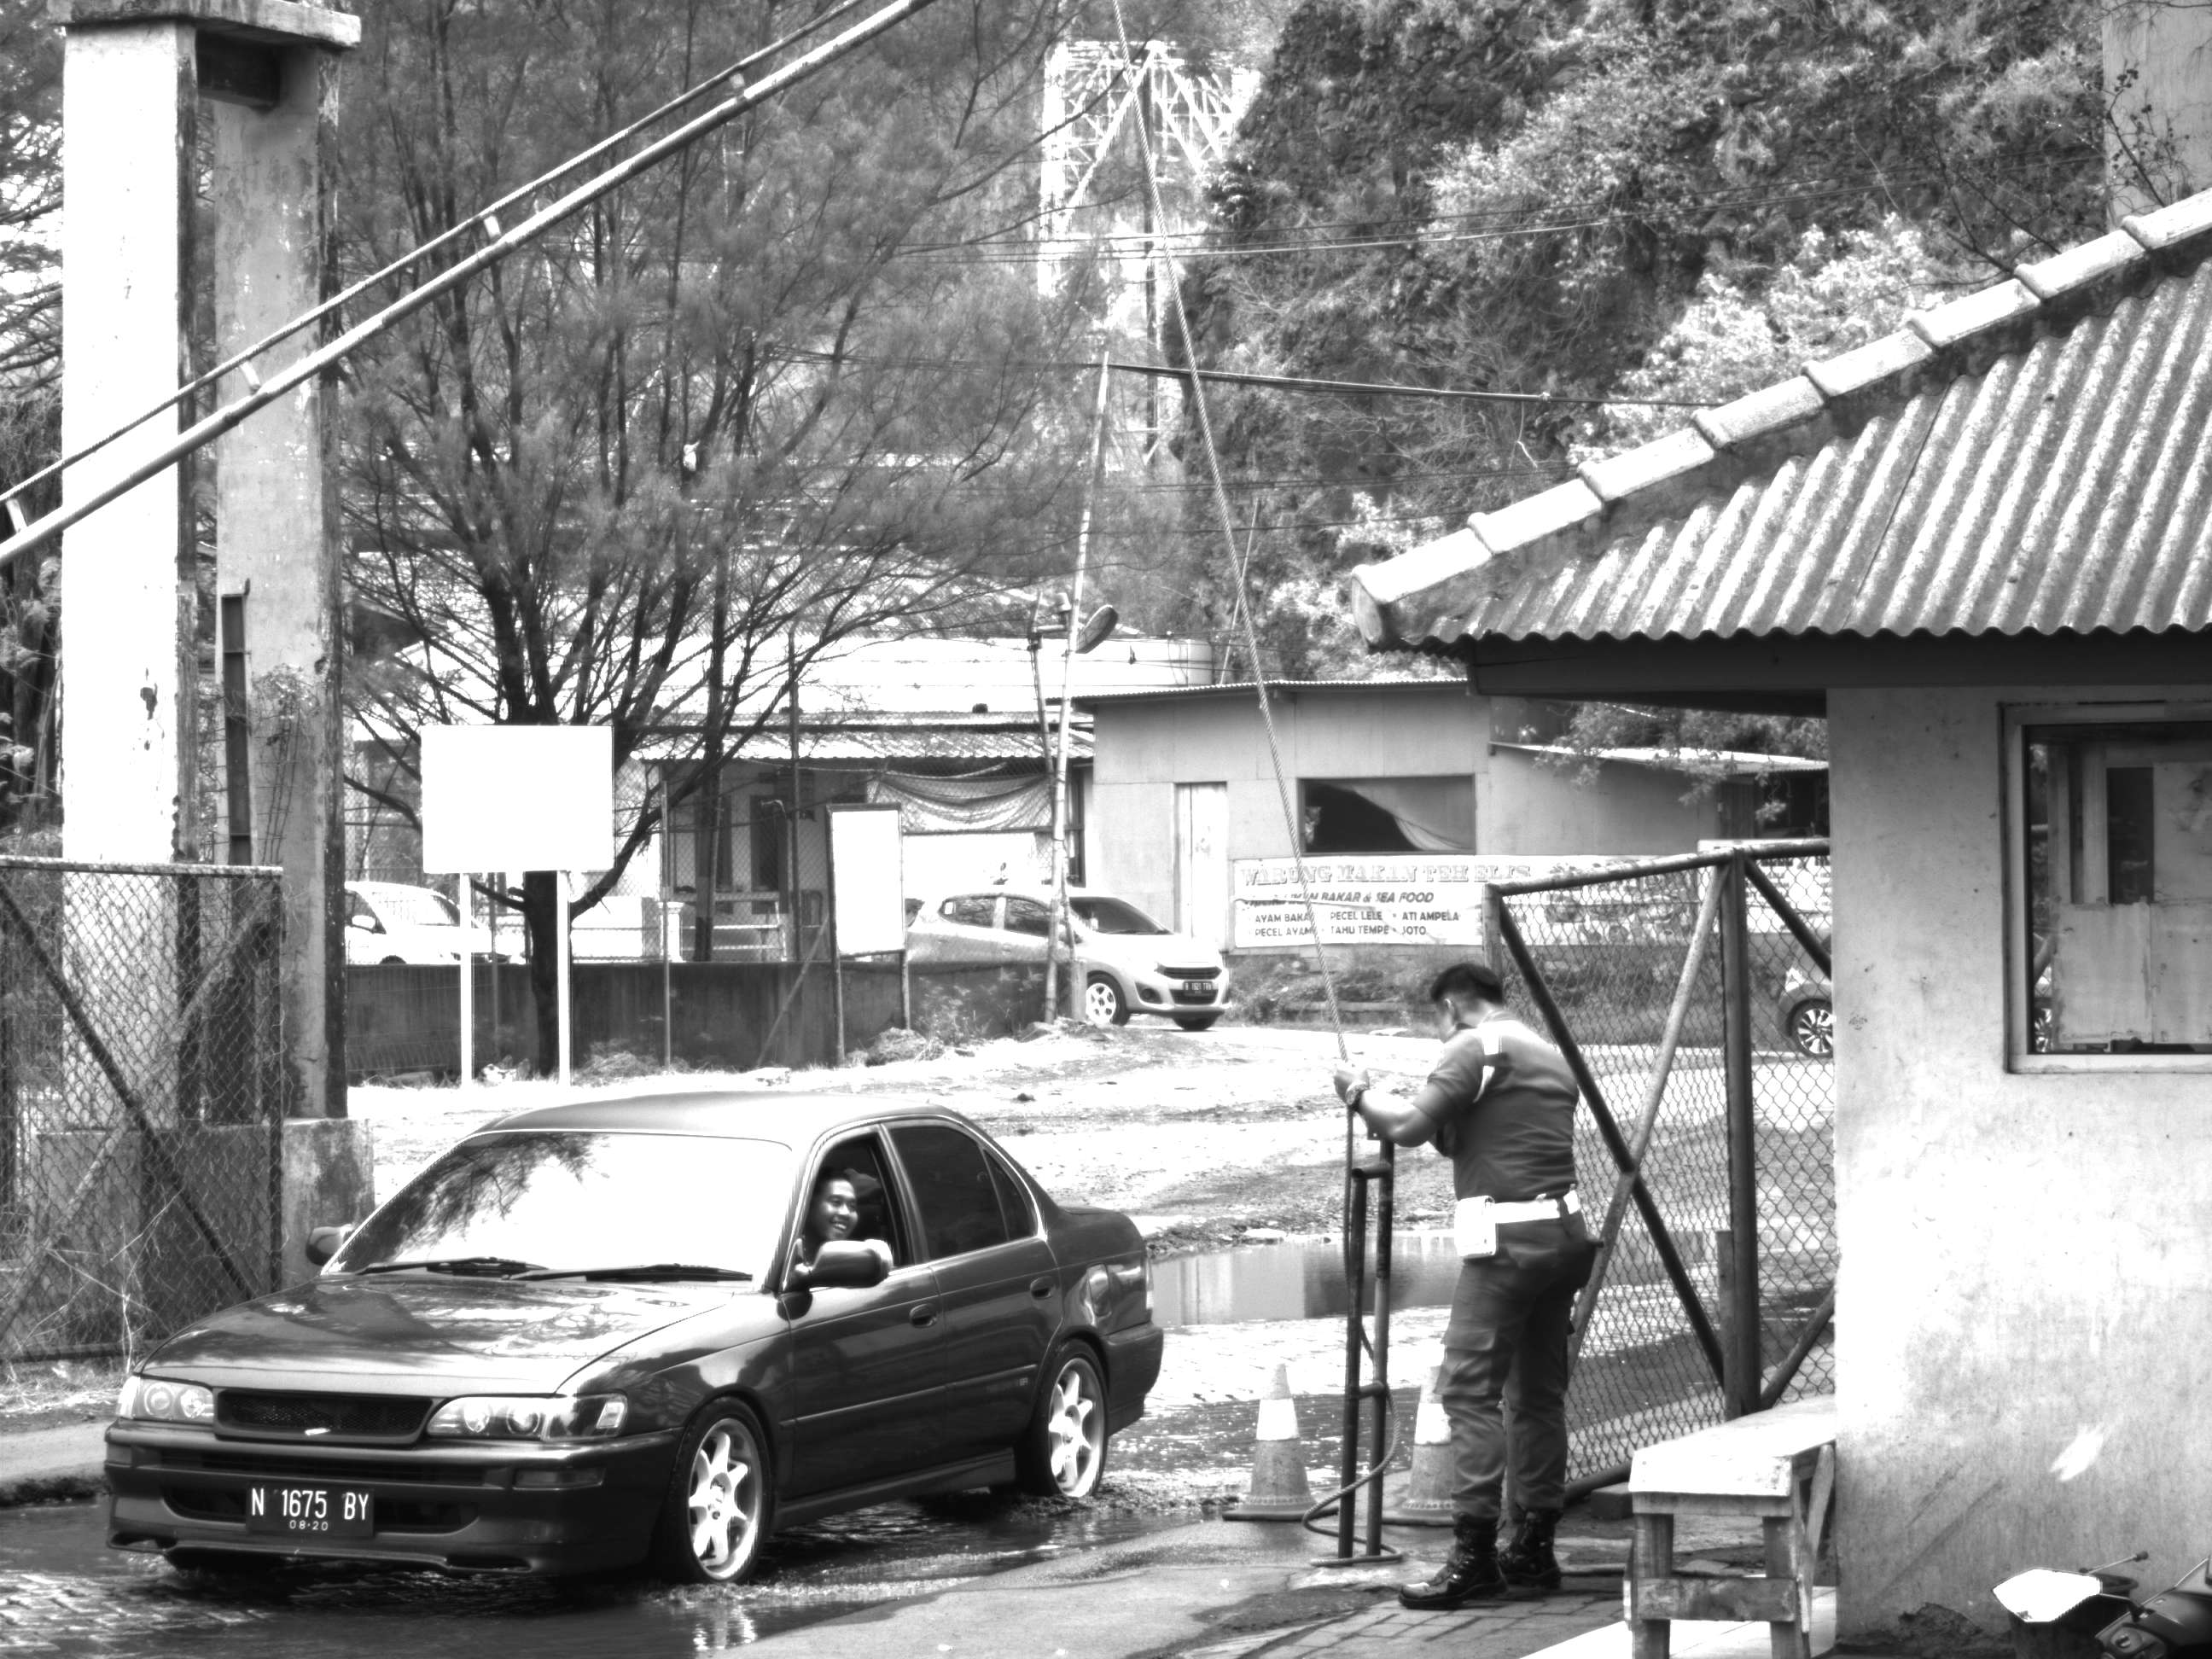day_small_front: (96, 1088, 813, 1584)
plate: (247, 1479, 374, 1538)
